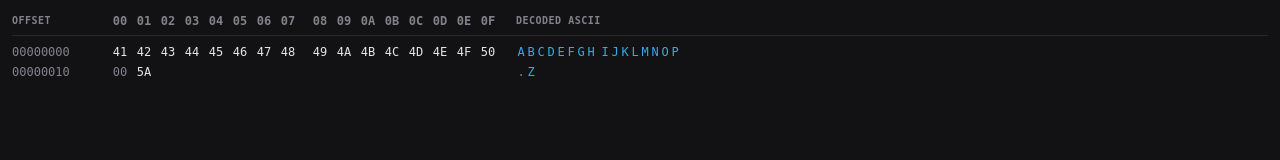
Scenario: HexViewer › aligns header columns 00..0F and data rows in matching w-[392px] flex grids without ASCII overlap
Expected: the text "50" is shown, [481,45,495,59]
Note: Paired byte hover highlights the matching column via data-hover-col without re-render
Hover over the text "44" at (192, 52), box [185,45,199,59]
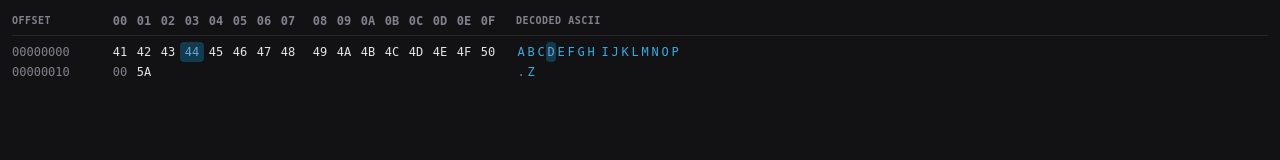
Result: the element with class "hex-row" has attribute data-hover-col="3"
Move the pointer off the 1st element with class "hex-row", box [12,42,679,62]
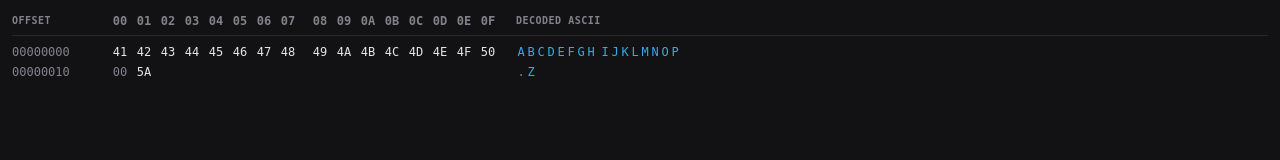
Result: the element with class "hex-row" does not have attribute data-hover-col at [12,45,679,59]
